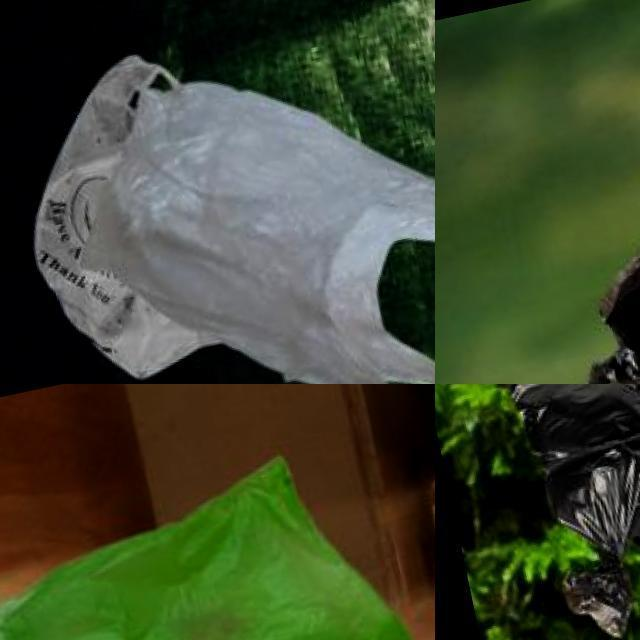waste: (90, 25, 435, 384), (0, 435, 435, 640), (13, 49, 231, 384), (509, 384, 640, 640), (558, 384, 640, 604)
